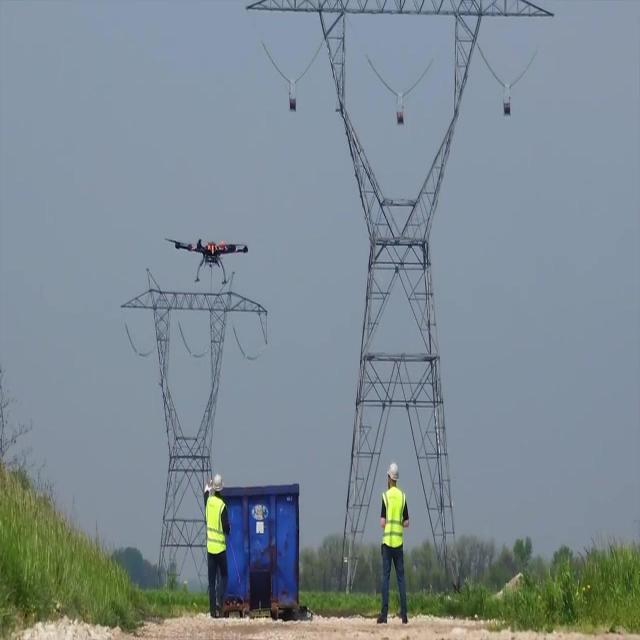drone: (163, 234, 253, 288)
